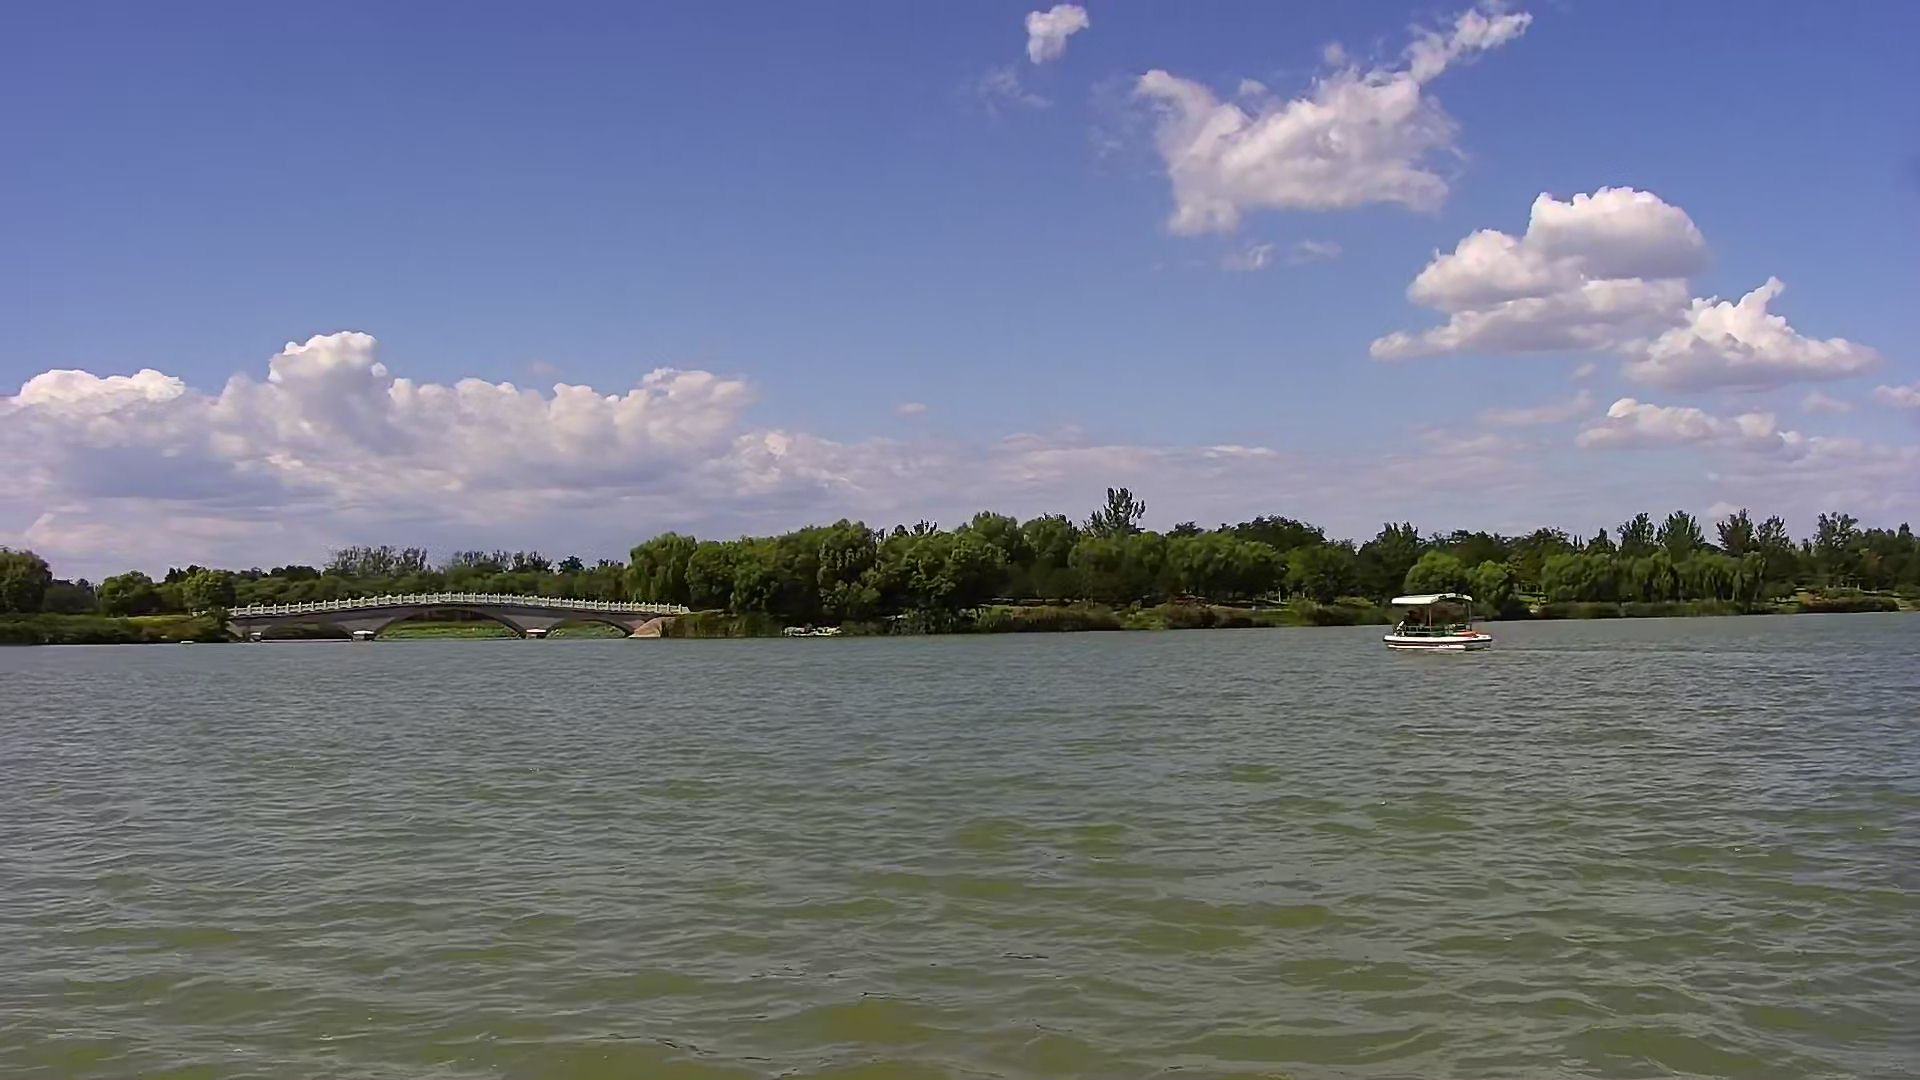boat: (1381, 591, 1489, 658)
bridge: (233, 593, 663, 641)
